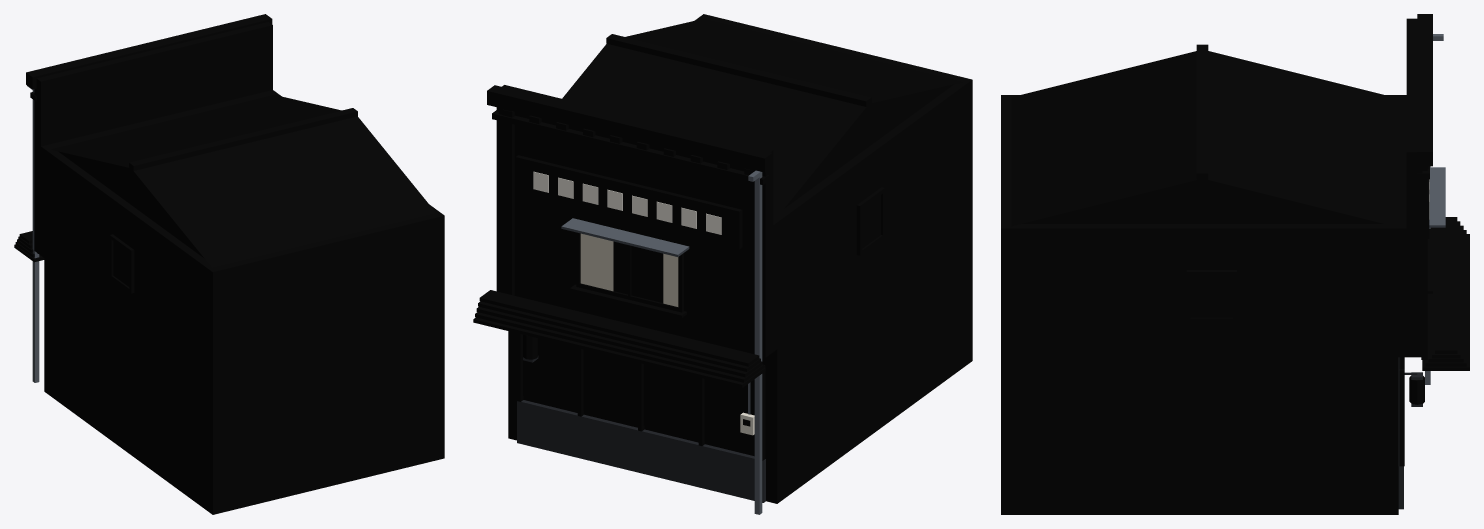
The model's file is Kanban_A2.fbx.
3 renders of one model, left to right at view 1: azimuth 30°, elevation 25°; view 2: azimuth 150°, elevation 25°; view 3: azimuth 270°, elevation 25°, orthographic. The views are drawn at different scales.
Parts seen in each view (by area): view 1: BodyLow.008, BodyUp.008, Roof.009, BodyFront.001, Gables.009, Cornice.001, Pipes.021, WinFrame.021, Glass.021; view 2: BodyLow.008, Roof.009, BodyUp.008, BodyFront.001, Cornice.001, LitGlassDim.011, Base.001, Canopy.001, SignBand.008, Gables.009, Glass.021, Pipes.021 (+5 smaller); view 3: BodyLow.008, BodyUp.008, Roof.009, Gables.009, Canopy.001, BodyFront.001, Cornice.001, Glass.021, WinFrame.021, Hoods.018, ShopFrame.005.
Part boxes in pixels (bbox=[...]): BodyLow.008: bbox=[44, 258, 444, 514]; BodyUp.008: bbox=[41, 90, 444, 381]; Roof.009: bbox=[51, 95, 435, 267]; BodyFront.001: bbox=[34, 22, 272, 255]; Gables.009: bbox=[58, 151, 203, 257]; Cornice.001: bbox=[26, 14, 272, 253]; Pipes.021: bbox=[27, 85, 39, 382]; WinFrame.021: bbox=[109, 234, 134, 293]; Glass.021: bbox=[113, 241, 129, 286]; BodyLow.008: bbox=[508, 206, 972, 503]; Roof.009: bbox=[562, 19, 961, 219]; BodyUp.008: bbox=[694, 14, 972, 351]; BodyFront.001: bbox=[496, 85, 773, 357]; Cornice.001: bbox=[487, 85, 772, 354]; LitGlassDim.011: bbox=[523, 338, 754, 452]; Base.001: bbox=[517, 400, 765, 502]; Canopy.001: bbox=[473, 290, 765, 387]; SignBand.008: bbox=[515, 155, 742, 248]; Gables.009: bbox=[784, 84, 953, 208]; Glass.021: bbox=[613, 195, 880, 426]; Pipes.021: bbox=[748, 170, 762, 514]; BodyLow.008: bbox=[1001, 357, 1398, 514]; BodyUp.008: bbox=[1001, 95, 1406, 357]; Roof.009: bbox=[1011, 44, 1393, 226]; Gables.009: bbox=[1022, 179, 1383, 223]; Canopy.001: bbox=[1422, 217, 1469, 370]; BodyFront.001: bbox=[1406, 18, 1422, 357]; Cornice.001: bbox=[1417, 14, 1432, 359]; Glass.021: bbox=[1190, 275, 1232, 317]; WinFrame.021: bbox=[1186, 235, 1432, 322]; Hoods.018: bbox=[1429, 167, 1445, 227]; ShopFrame.005: bbox=[1399, 357, 1404, 466].
Bounding box in the file's own units: 6.2 × 7.65 × 8.9.
